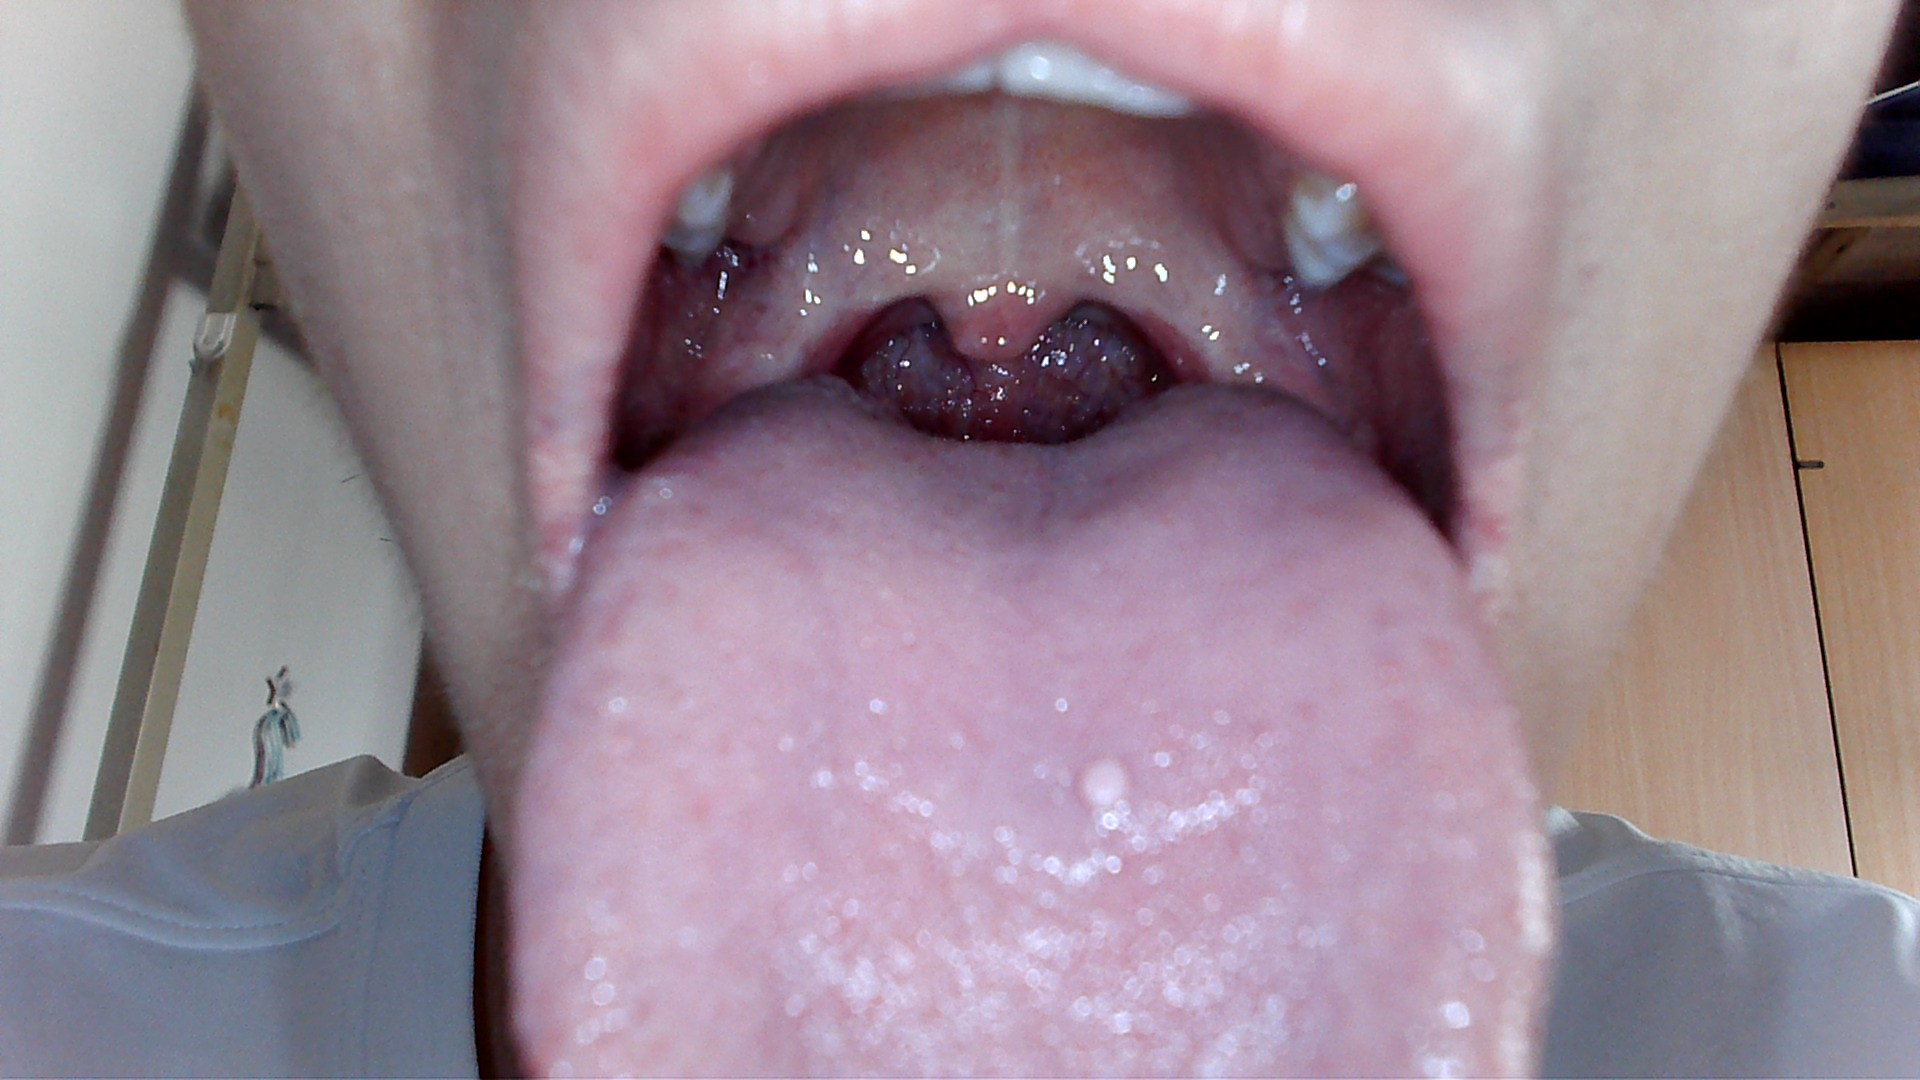throat: (1110, 276, 1215, 388), (778, 276, 878, 376)
